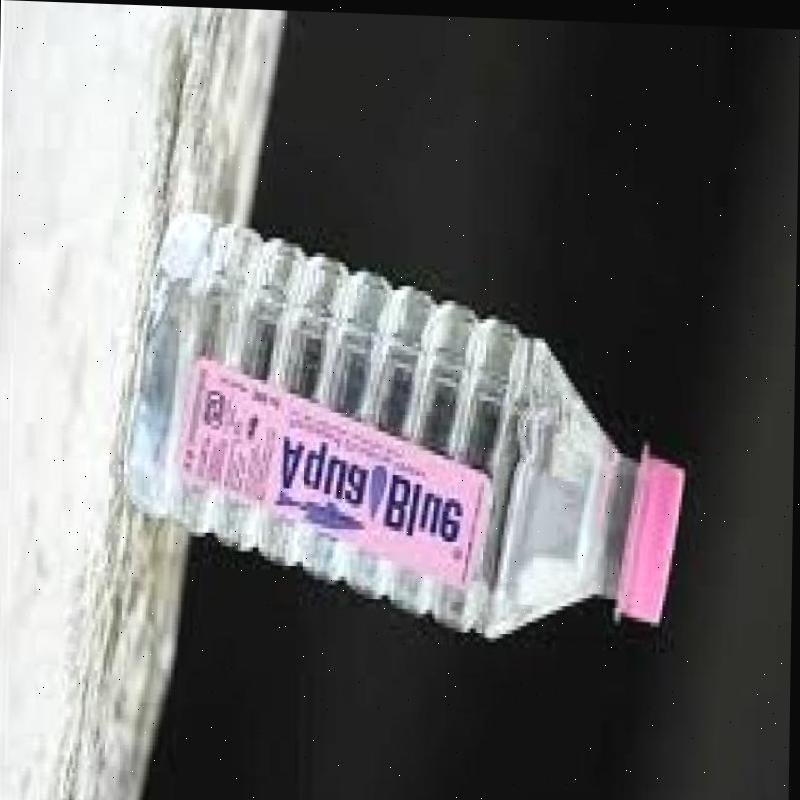botella: (123, 197, 689, 639)
